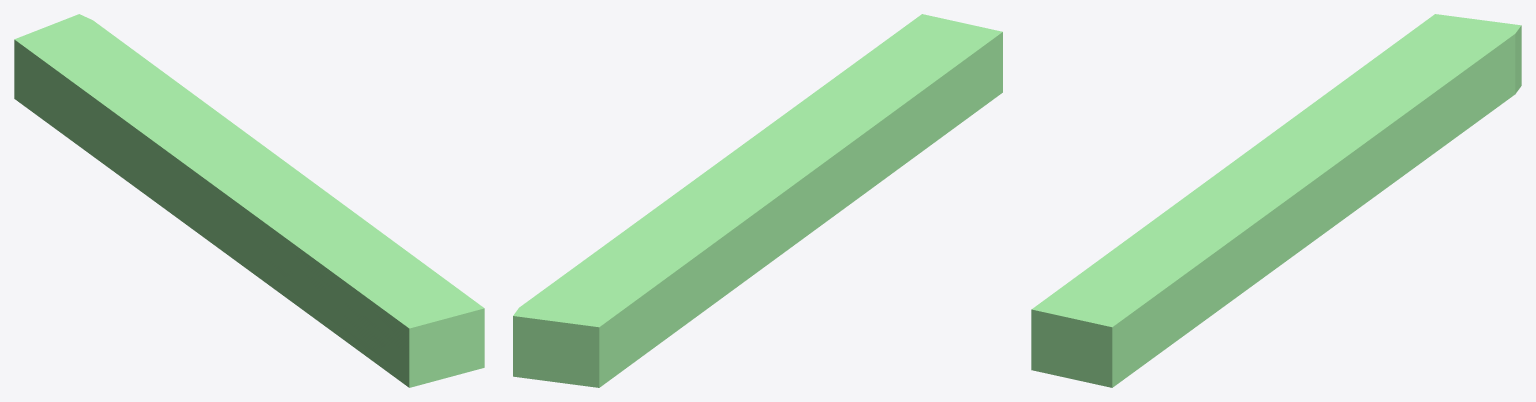
File: dvkr_robot_Lp11_respondable_PSM2_coll_7.dae
The picture shows the model from 3 angles, left to right: view 1: azimuth 30°, elevation 25°; view 2: azimuth 150°, elevation 25°; view 3: azimuth 330°, elevation 25°; orthographic projection. The views are drawn at different scales.
Visible parts, largest first — view 1: Node_0000023514CD7BC0; view 2: Node_0000023514CD7BC0; view 3: Node_0000023514CD7BC0.
Boxes of the visible parts, x1,y1,x2,y2 form: Node_0000023514CD7BC0: [14, 14, 484, 387]; Node_0000023514CD7BC0: [513, 14, 1002, 387]; Node_0000023514CD7BC0: [1031, 14, 1521, 387].
Bounding box in the file's own units: 0.018 × 0.013 × 0.1606.
